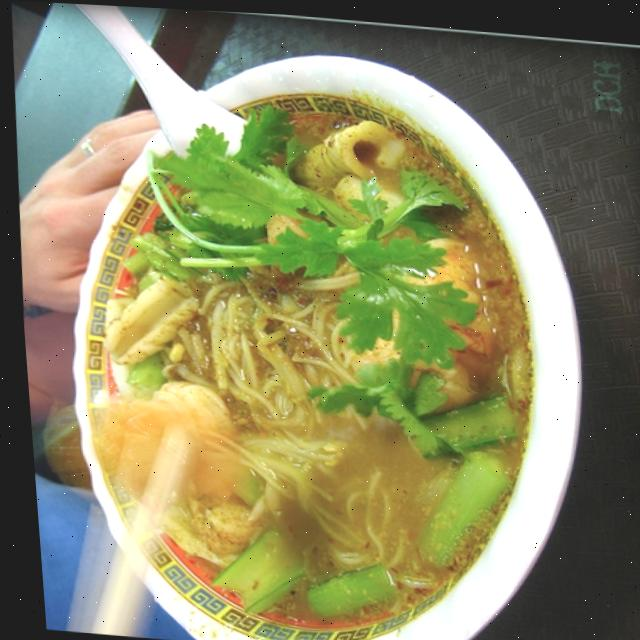面条主食: (30, 45, 594, 640)
